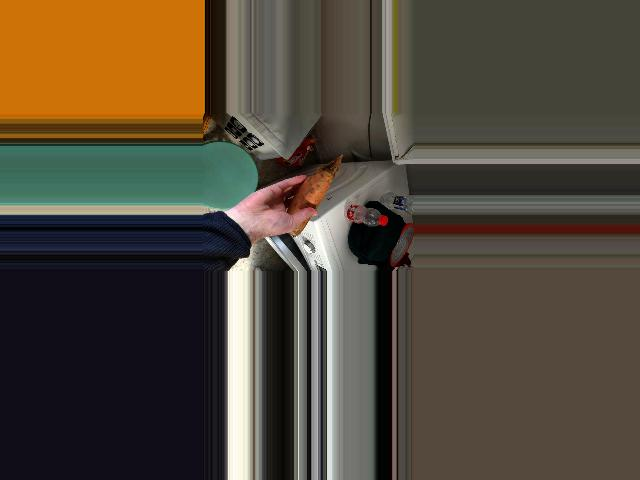sweet_potato: (288, 176, 332, 222)
